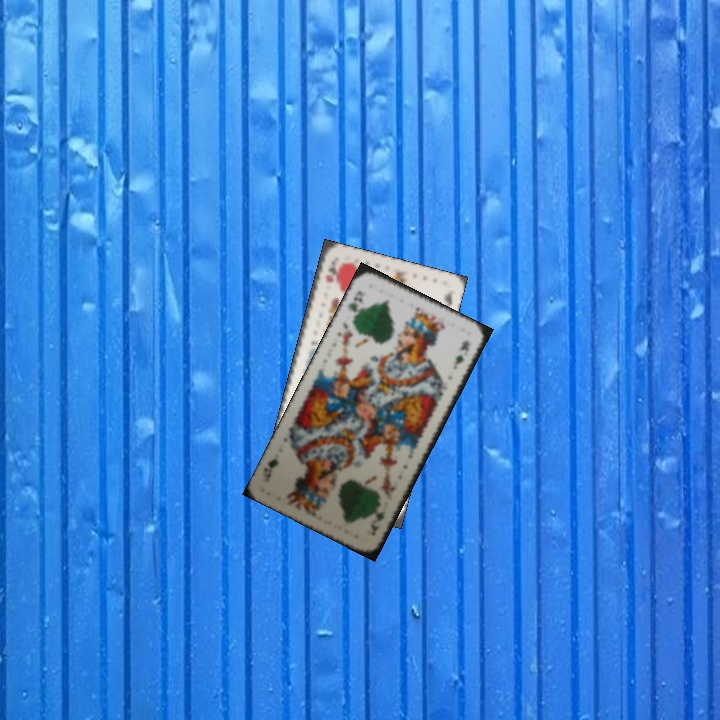GK: (364, 501, 387, 538), (343, 287, 368, 321)
HK: (321, 262, 340, 286)
